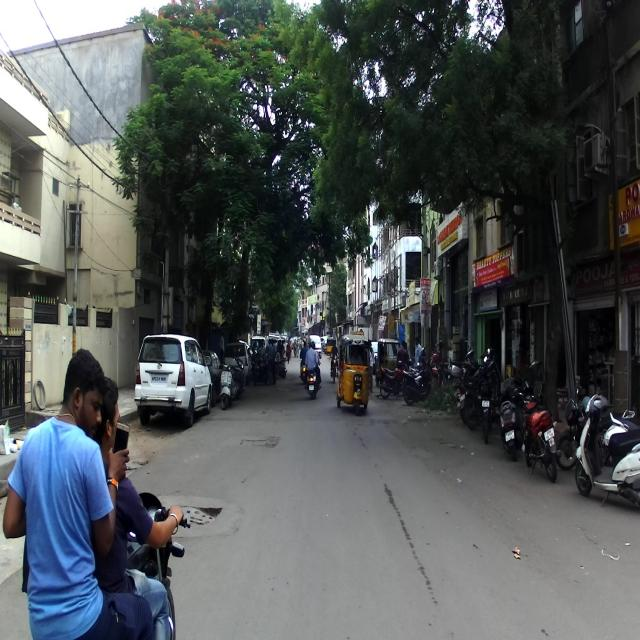car: (133, 334, 213, 428)
motorcycle: (516, 388, 558, 480), (477, 364, 495, 447)
scooter: (574, 392, 638, 506)
